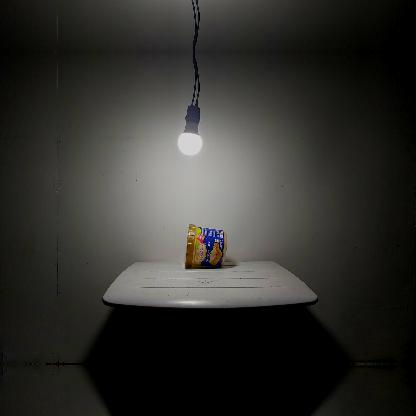Lady-s-Choice: (185, 224, 227, 268)
